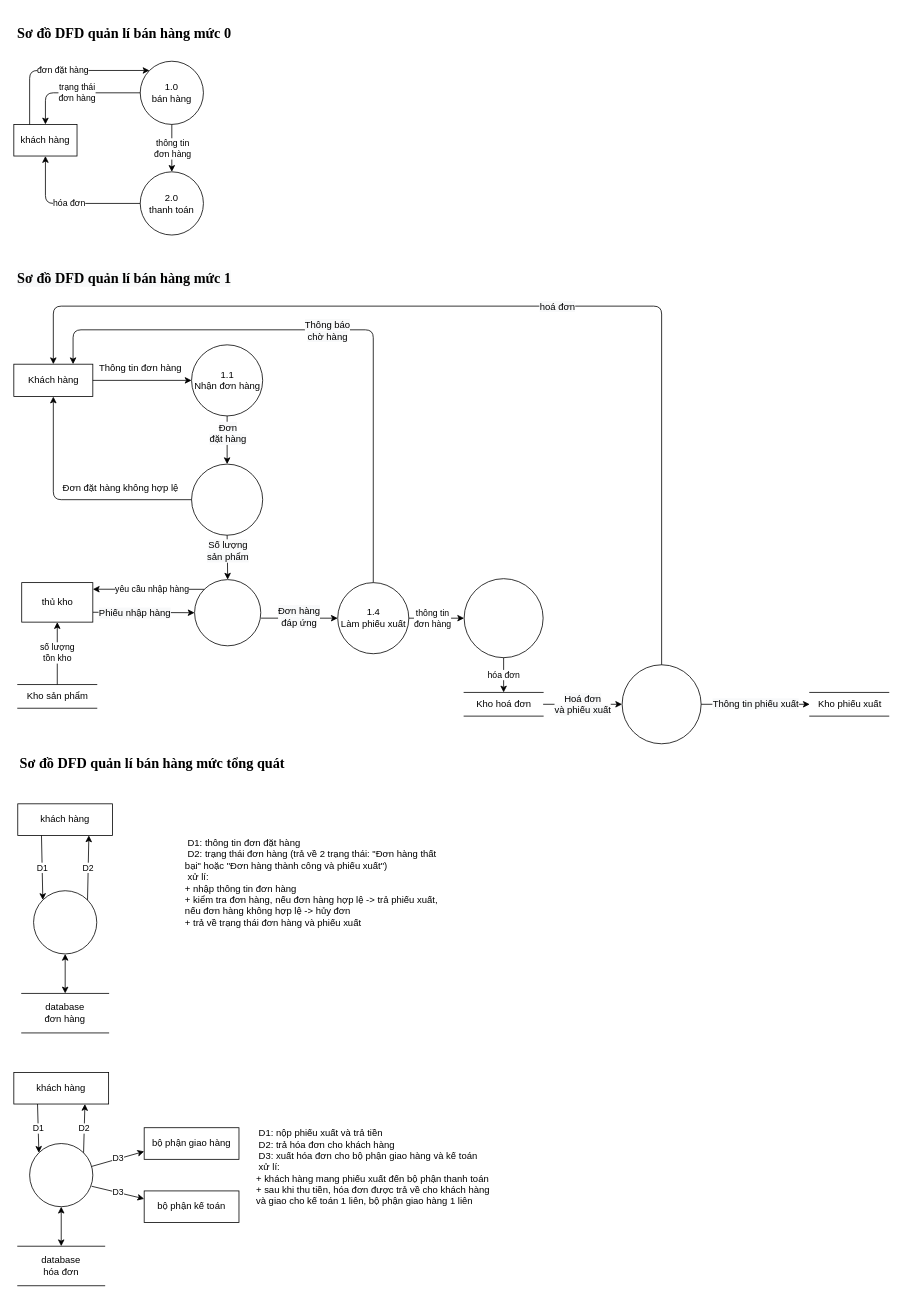
Image size: 903x1300. Some labels were removed from this diagram. The centre of each missing label's shape, as x and y in pixels:
"1.2 Kiểm tra" goes at (227,499).
"1.3 Nhập hàng" goes at (227,612).
"2.1 Thanh toán" goes at (503,618).
"2.2 Giao hàng" goes at (661,704).
"bán hàng" goes at (65,922).
"thanh toán" goes at (61,1175).
